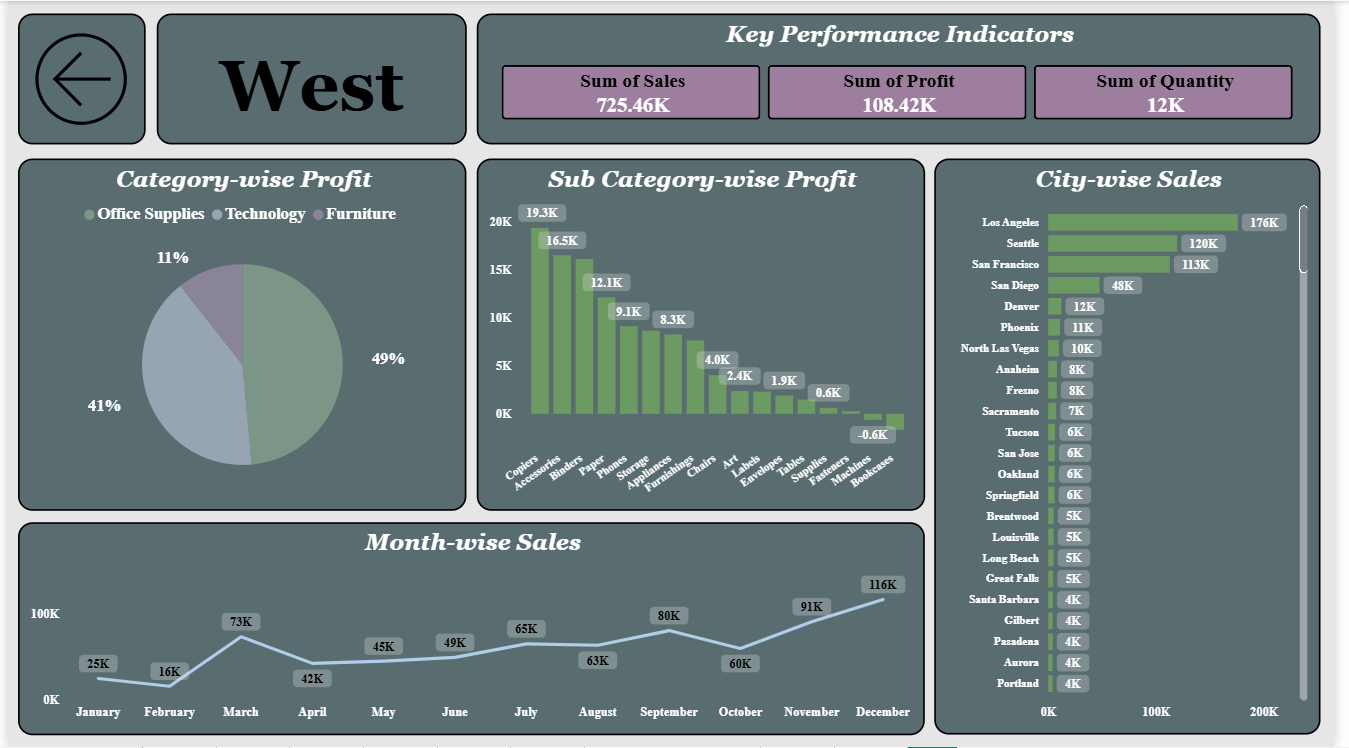

Layout of this report page (visuals, bound fields, positions):
{"tool":"powerbi","page":{"name":"Drill through page","canvas":[1280,720],"ordinal":6},"visuals":[{"type":"actionButton","box":[9.8,12.2,123.5,114.9],"z":0},{"type":"card","fields":{"Values":["Min(Orders.Region)"]},"box":[143.1,12.2,299.6,114.9],"z":1000},{"type":"barChart","title":"City-wise Sales","fields":{"Category":["Orders.City"],"Y":["Sum(Orders.Sales)"]},"box":[893.9,138.2,373,569.8],"z":2000},{"type":"pieChart","title":"Category-wise Profit","fields":{"Category":["Orders.Category"],"Y":["Sum(Orders.Profit)"]},"box":[9.8,138.2,432.9,354.6],"z":3000},{"type":"clusteredColumnChart","title":"Sub Category-wise Profit","fields":{"Category":["Orders.Sub-Category"],"Y":["Sum(Orders.Profit)"]},"box":[452.4,138.2,432.9,354.6],"z":4000},{"type":"cardVisual","title":"Key Performance Indicators ","fields":{"Data":["Sum(Orders.Sales)","Sum(Orders.Profit)","Sum(Orders.Quantity)"]},"box":[452.4,12.2,814.4,114.9],"z":5000},{"type":"lineChart","title":"Month-wise Sales","fields":{"Category":["Date Table.Date.Variation.Date Hierarchy.Month"],"Y":["Sum(Orders.Sales)"]},"box":[9.8,502.6,875.5,205.4],"z":6000}]}

Visuals, with their boxes in screenshot pixels (x1, y1, x2, y2), scaled from the page's 1280x720 canvas onto the 1349x748 screenshot:
actionButton: bbox=(10, 13, 140, 132)
card - Min(Orders.Region): bbox=(151, 13, 467, 132)
"City-wise Sales" barChart: bbox=(942, 144, 1335, 736)
"Category-wise Profit" pieChart: bbox=(10, 144, 467, 512)
"Sub Category-wise Profit" clusteredColumnChart: bbox=(477, 144, 933, 512)
"Key Performance Indicators " cardVisual: bbox=(477, 13, 1335, 132)
"Month-wise Sales" lineChart: bbox=(10, 522, 933, 736)
